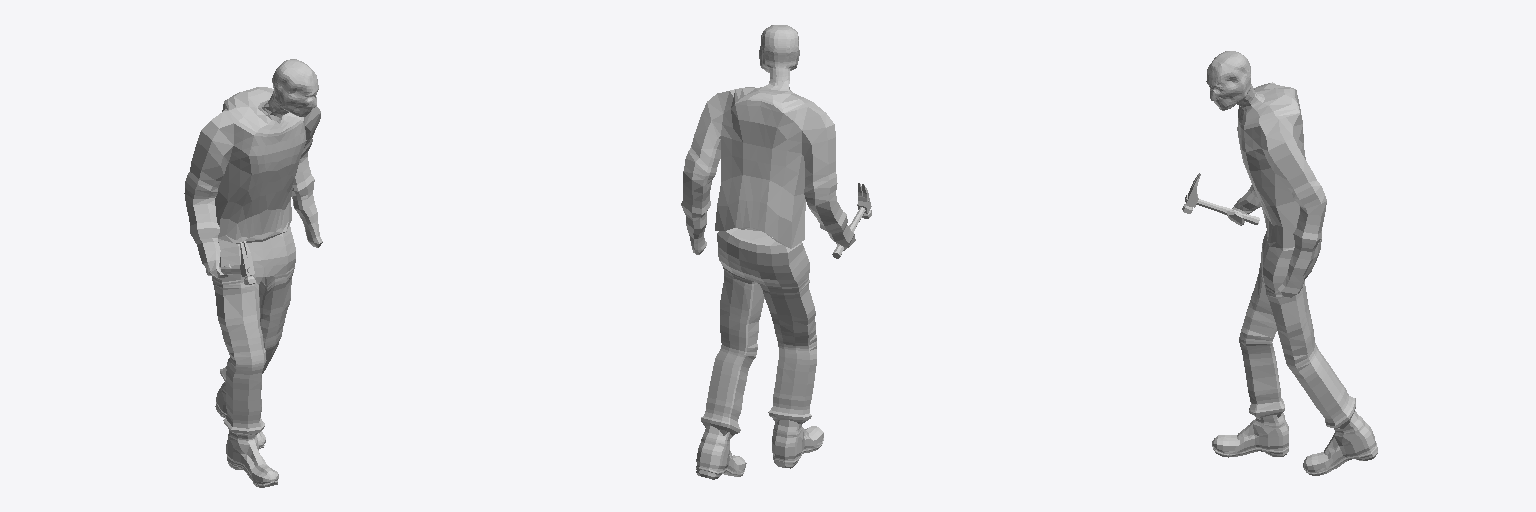
File: Murderer_Idle100.obj
The picture shows the model from 3 angles: view 1: azimuth 30°, elevation 25°; view 2: azimuth 150°, elevation 25°; view 3: azimuth 270°, elevation 25°; orthographic projection.
Parts seen in each view (by area): view 1: Körper, Beine, Stiefel, Hammer; view 2: Körper, Beine, Stiefel, Hammer; view 3: Körper, Beine, Stiefel, Hammer.
Boxes of the visible parts, x1=… form: Körper: x1=184, y1=59, x2=322, y2=279; Beine: x1=212, y1=225, x2=295, y2=435; Stiefel: x1=215, y1=382, x2=278, y2=487; Hammer: x1=206, y1=241, x2=255, y2=284; Körper: x1=681, y1=25, x2=855, y2=254; Beine: x1=701, y1=228, x2=816, y2=437; Stiefel: x1=696, y1=420, x2=823, y2=479; Hammer: x1=832, y1=183, x2=871, y2=258; Körper: x1=1206, y1=51, x2=1326, y2=297; Beine: x1=1239, y1=231, x2=1355, y2=428; Stiefel: x1=1212, y1=411, x2=1377, y2=475; Hammer: x1=1182, y1=173, x2=1259, y2=224.
Bounding box in the file's own units: 0.3358 × 0.9593 × 0.409.